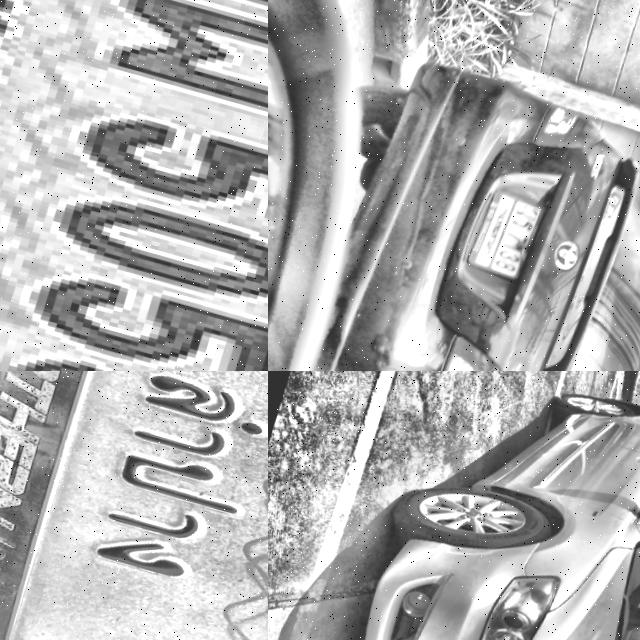license-plate: (0, 0, 268, 371), (0, 371, 268, 640), (462, 184, 560, 284)
